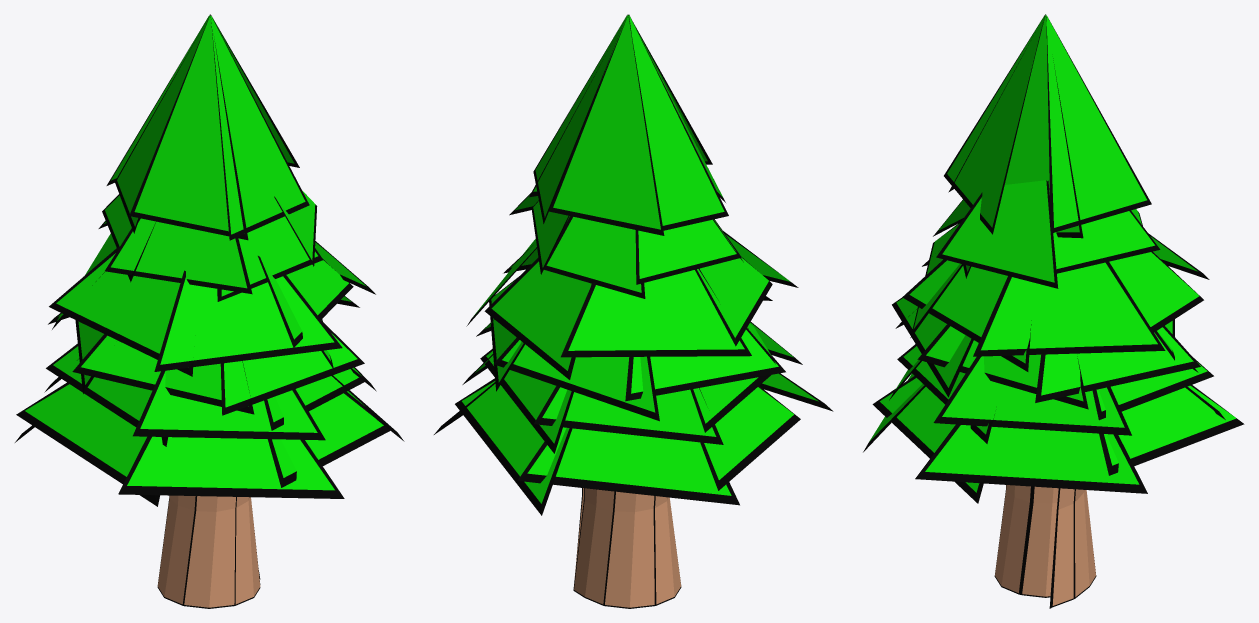
Rendered from CardboardTree06.fbx.
3 renders of one model, left to right at view 1: azimuth 30°, elevation 25°; view 2: azimuth 150°, elevation 25°; view 3: azimuth 270°, elevation 25°, orthographic.
Parts seen in each view (by area): view 1: Cylinder.002; view 2: Cylinder.002; view 3: Cylinder.002.
Boxes of the visible parts, x1,y1,x2,y2 form: Cylinder.002: (15, 14, 404, 608); Cylinder.002: (434, 14, 833, 608); Cylinder.002: (863, 14, 1244, 608).
Bounding box in the file's own units: 741 × 1364 × 829.
